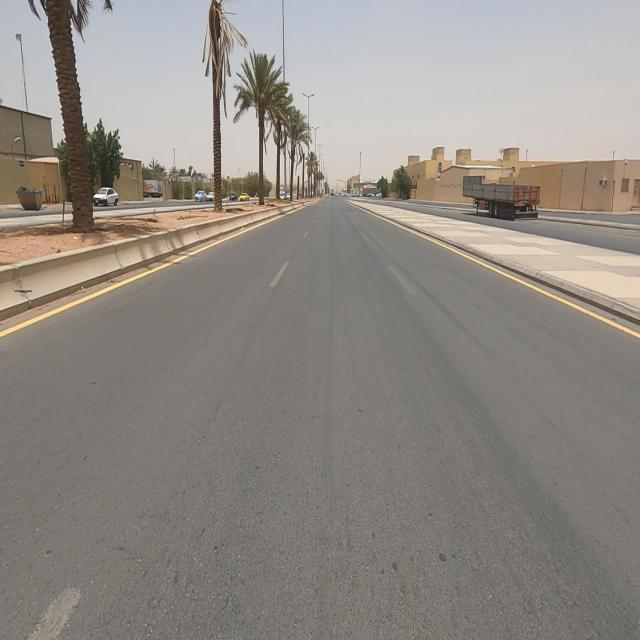debris: (214, 187, 238, 238)
